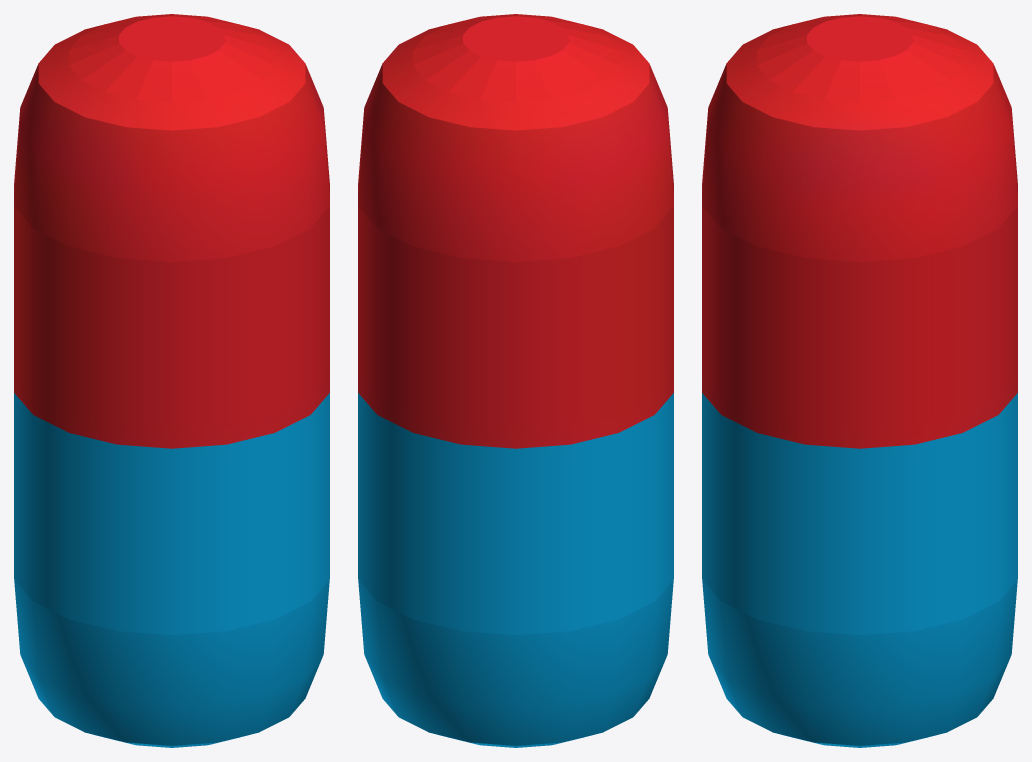
File: pill.FBX
3 renders of one model, left to right at view 1: azimuth 30°, elevation 25°; view 2: azimuth 150°, elevation 25°; view 3: azimuth 270°, elevation 25°, orthographic.
Visible parts, largest first — view 1: Pill; view 2: Pill; view 3: Pill.
Part boxes in pixels (x1,y1,x2,y2): Pill: (14, 14, 329, 747); Pill: (358, 14, 673, 747); Pill: (702, 14, 1017, 747).
Size of the model in its own units: 4.5 by 10.6 by 4.43.
1 material, 1 textured.
